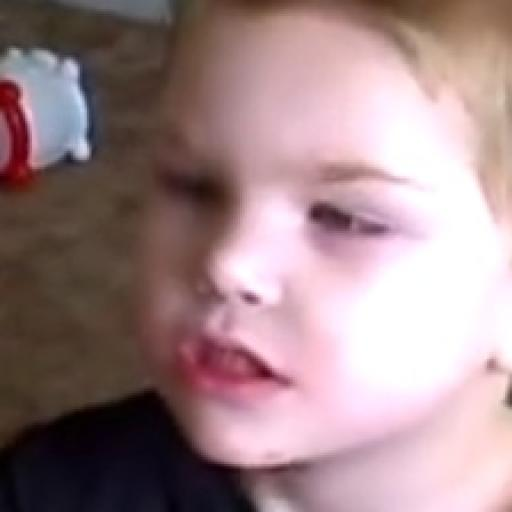Autism: (114, 21, 512, 473)
